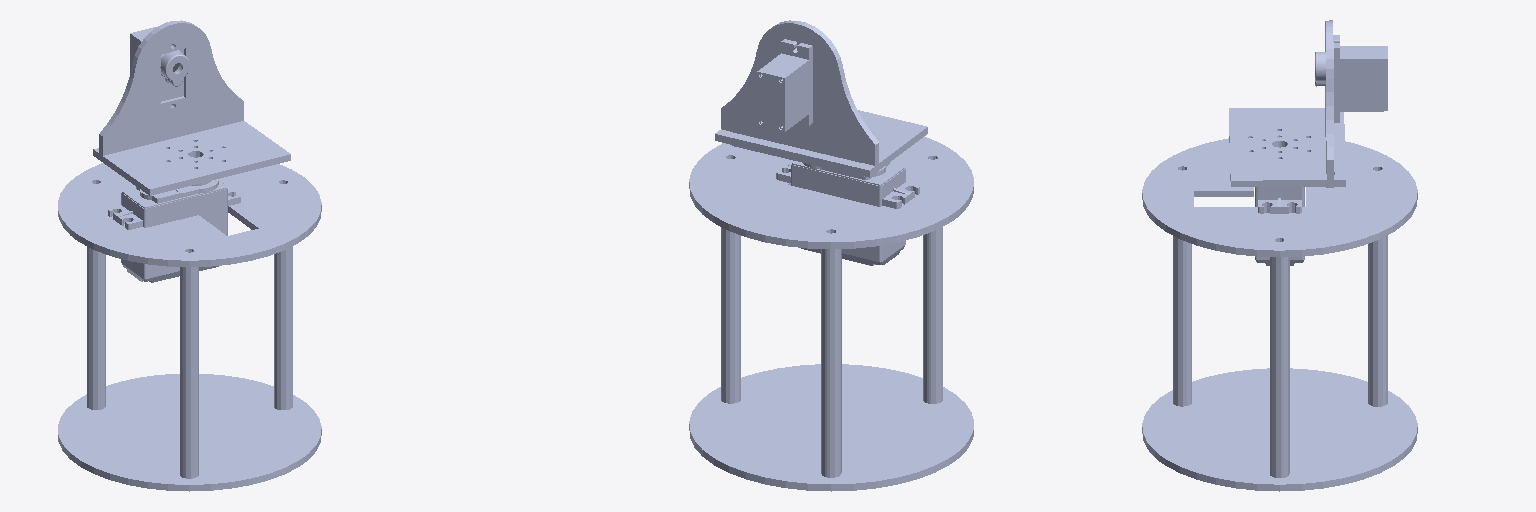
URDF robot description (manipulator):
<?xml version="1.0" encoding="utf-8"?>
<!-- This URDF was automatically created by SolidWorks to URDF Exporter! Originally created by [author] ([email redacted]) 
     Commit Version: 1.5.1-0-g916b5db  Build Version: 1.5.7152.31018
     For more information, please see http://wiki.ros.org/sw_urdf_exporter -->
<robot name="manipulator">
	<link name="world">
   </link>
	<link name="link_0">
		<inertial>
			<!-- <origin xyz="-0.0021206 0.0002459 0.064773" rpy="0 0 0" /> -->
			<mass value="0.09286" />
			<inertia ixx="5.326E-05" ixy="-1.315E-07" ixz="-2.2253E-08" iyy="5.6454E-05" iyz="-6.8881E-23" izz="8.948E-05" /> 
			<!-- <mass value="0.0"/> -->
			<!-- <inertia ixx="0.0" ixy="0.0" ixz="0.0" iyy="0.0" iyz="0.0" izz="0.0"/> -->
		</inertial>
		<visual>
			<origin xyz="0 0 0" rpy="0 0 0" />
			<geometry>
				<mesh filename="package://manipulator_description/meshes/link_0.STL" />
			</geometry>
			<material name="">
				<color rgba="0.79216 0.81961 0.93333 1" />
			</material>
		</visual>
		<collision>
			<origin xyz="0 0 0" rpy="0 0 0" />
			<geometry>
				<mesh filename="package://manipulator_description/meshes/link_0.STL" />
			</geometry>
		</collision>
	</link>
	<joint name="dummy_joint" type="fixed">
     <parent link="world"/>
     <child link="link_0"/>
   </joint>
	<link name="link_1">
		<inertial>
			<origin xyz="-1.4162E-05 0.0091539 0.0097543" rpy="0 0 0" />
			<mass value="0.021123" />
			<inertia ixx="3.515E-06" ixy="2.2398E-16" ixz="-1.8348E-15" iyy="7.5839E-06" iyz="2.8002E-09" izz="7.0937E-06" />
		</inertial>
		<visual>
			<origin xyz="0 0 0" rpy="0 0 0" />
			<geometry>
				<mesh filename="package://manipulator_description/meshes/link_1.STL" />
			</geometry>
			<material name="">
				<color rgba="0.79216 0.81961 0.93333 1" />
			</material>
		</visual>
		<collision>
			<origin xyz="0 0 0" rpy="0 0 0" />
			<geometry>
				<mesh filename="package://manipulator_description/meshes/link_1.STL" />
			</geometry>
		</collision>
	</link>
	<joint name="joint_1" type="revolute">
		<origin xyz="0.0029256 -5.3727E-05 0.1232" rpy="0 0 0.011222" />
		<parent link="link_0" />
		<child link="link_1" />
		<axis xyz="0 0 1" />
		<limit lower="0.0" upper="3.14159265359" effort="1.0" velocity="1.0"/>
	</joint>
	<link name="link_2">
		<inertial>
			<origin xyz="0.040762 9.3746E-11 0.00077048" rpy="0 0 0" />
			<mass value="0.016936" />
			<inertia ixx="1.0452E-06" ixy="1.6239E-15" ixz="-2.8002E-09" iyy="1.958E-05" iyz="2.8964E-16" izz="2.0421E-05" />
		</inertial>
		<visual>
			<origin xyz="0 0 0" rpy="0 0 0" />
			<geometry>
				<mesh filename="package://manipulator_description/meshes/link_2.STL" />
			</geometry>
			<material name="">
				<color rgba="0.64706 0.51765 0 1" />
			</material>
		</visual>
		<collision>
			<origin xyz="0 0 0" rpy="0 0 0" />
			<geometry>
				<mesh filename="package://manipulator_description/meshes/link_2.STL" />
			</geometry>
		</collision>
	</link>
	<joint name="joint_2" type="revolute">
		<origin xyz="-0.00029839 0.01004 0.039318" rpy="1.5708 0.0098142 0" />
		<parent link="link_1" />
		<child link="link_2" />
		<axis xyz="0 0 1" />
		<limit lower="0.0" upper="3.14159265359" effort="1.0" velocity="0.0"/>
	</joint>
	<link name="link_3">
		<inertial>
			<origin xyz="0.01702 0.00029705 -0.0010045" rpy="0 0 0" />
			<mass value="0.0089186" />
			<inertia ixx="2.3882E-07" ixy="-7.0517E-08" ixz="5.0478E-20" iyy="4.278E-06" iyz="-3.9823E-20" izz="4.3426E-06" />
		</inertial>
		<visual>
			<origin xyz="0 0 0" rpy="0 0 0" />
			<geometry>
				<mesh filename="package://manipulator_description/meshes/link_3.STL" />
			</geometry>
			<material name="">
				<color rgba="0.50196 0.50196 0.50196 1" />
			</material>
		</visual>
		<collision>
			<origin xyz="0 0 0" rpy="0 0 0" />
			<geometry>
				<mesh filename="package://manipulator_description/meshes/link_3.STL" />
			</geometry>
		</collision>
	</link>
	<joint name="joint_3" type="revolute">
		<origin xyz="0.1199 0 0.01365" rpy="0 0 -1.57079632679" />
		<parent link="link_2" />
		<child link="link_3" />
		<axis xyz="0 0 1" />
		<limit lower="0.0" upper="3.14159265359" effort="1.0" velocity="0.0"/>
	</joint>

	<link name="link_4">
		<inertial>
			<origin xyz="0.01702 0.00029705 -0.0010045" rpy="0 0 0" />
			<mass value="0.0089186" />
			<inertia ixx="2.3882E-07" ixy="-7.0517E-08" ixz="5.0478E-20" iyy="4.278E-06" iyz="-3.9823E-20" izz="4.3426E-06" />
		</inertial>
		<visual>
			<origin xyz="0 0 0" rpy="0 0 0" />
			<geometry>
				<cylinder radius="0" length="0"/>
			</geometry>
			<material name="">
				<color rgba="0.50196 0.50196 0.50196 1" />
			</material>
		</visual>
		<collision>
			<origin xyz="0 0 0" rpy="0 0 0" />
			<geometry>
				<cylinder radius="0" length="0"/>
			</geometry>
		</collision>
	</link>

	<joint name="joint_4" type="fixed">
		<origin xyz="0.0899 0.002 0.0037" rpy="0 0 0" />
		<parent link="link_3" />
		<child link="link_4" />
	</joint>
	<gazebo>
    	<plugin name="gazebo_ros_control" filename="libgazebo_ros_control.so">
      		<robotNamespace>/manipulator</robotNamespace>
    	</plugin>
  	</gazebo>
	<transmission name="joint_1_trans">
		<type>transmission_interface/SimpleTransmission</type>
		<joint name="joint_1">
			<hardwareInterface>hardware_interface/EffortJointInterface</hardwareInterface>
		</joint>
		<actuator name="joint_1_motor">
			<mechanicalReduction>2</mechanicalReduction>
			<hardwareInterface>hardware_interface/EffortJointInterface</hardwareInterface>
		</actuator>
	</transmission>
	<transmission name="joint_2_trans">
		<type>transmission_interface/SimpleTransmission</type>
		<joint name="joint_2">
			<hardwareInterface>hardware_interface/EffortJointInterface</hardwareInterface>
		</joint>
		<actuator name="joint_2_motor">
			<mechanicalReduction>2</mechanicalReduction>
			<hardwareInterface>hardware_interface/EffortJointInterface</hardwareInterface>
		</actuator>
	</transmission>
	<transmission name="joint_3_trans">
		<type>transmission_interface/SimpleTransmission</type>
		<joint name="joint_3">
			<hardwareInterface>hardware_interface/EffortJointInterface</hardwareInterface>
		</joint>
		<actuator name="joint_3_motor">
			<mechanicalReduction>2</mechanicalReduction>
			<hardwareInterface>hardware_interface/EffortJointInterface</hardwareInterface>
		</actuator>
	</transmission>
	<!-- <transmission name="joint_4_trans">
			<type>transmission_interface/SimpleTransmission</type>
			<joint name="joint_4">
				<hardwareInterface>hardware_interface/EffortJointInterface</hardwareInterface>
			</joint>
			<actuator name="joint_4_motor">
				<mechanicalReduction>2</mechanicalReduction>
				<hardwareInterface>hardware_interface/EffortJointInterface</hardwareInterface>
			</actuator>
	</transmission> -->
  <!-- ROS Control plugin for Gazebo -->
  
</robot>

--- What the picture shows (computed from the rendered views, not written in the file) ---
Views: 3 orthographic renders of the robot side by side, from view 1: azimuth 30°, elevation 25°; view 2: azimuth 150°, elevation 25°; view 3: azimuth 270°, elevation 25°.
Model manipulator with 6 links and 5 joints (3 revolute, 2 fixed), rooted at world, posed every joint at zero.
Links seen in each view (by area): view 1: link_0, link_1; view 2: link_0, link_1; view 3: link_0, link_1.
Link boxes in pixels (box(x1,y1,x2,y2)): link_0: box(58, 163, 321, 491); link_1: box(93, 20, 290, 195); link_0: box(689, 136, 973, 491); link_1: box(715, 20, 927, 177); link_0: box(1142, 138, 1417, 491); link_1: box(1229, 20, 1387, 187).
Bounding box of the posed robot: 0.1787 × 0.1099 × 0.181 m (x, y, z).
2 mesh visuals loaded from 4 distinct referenced files (2 binary STL); not drawn: 2 (reference not matched to a file when rendering).
